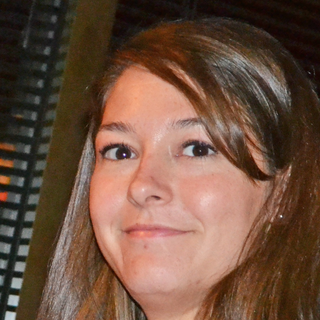eye: (172, 138, 221, 164), (96, 139, 143, 166)
